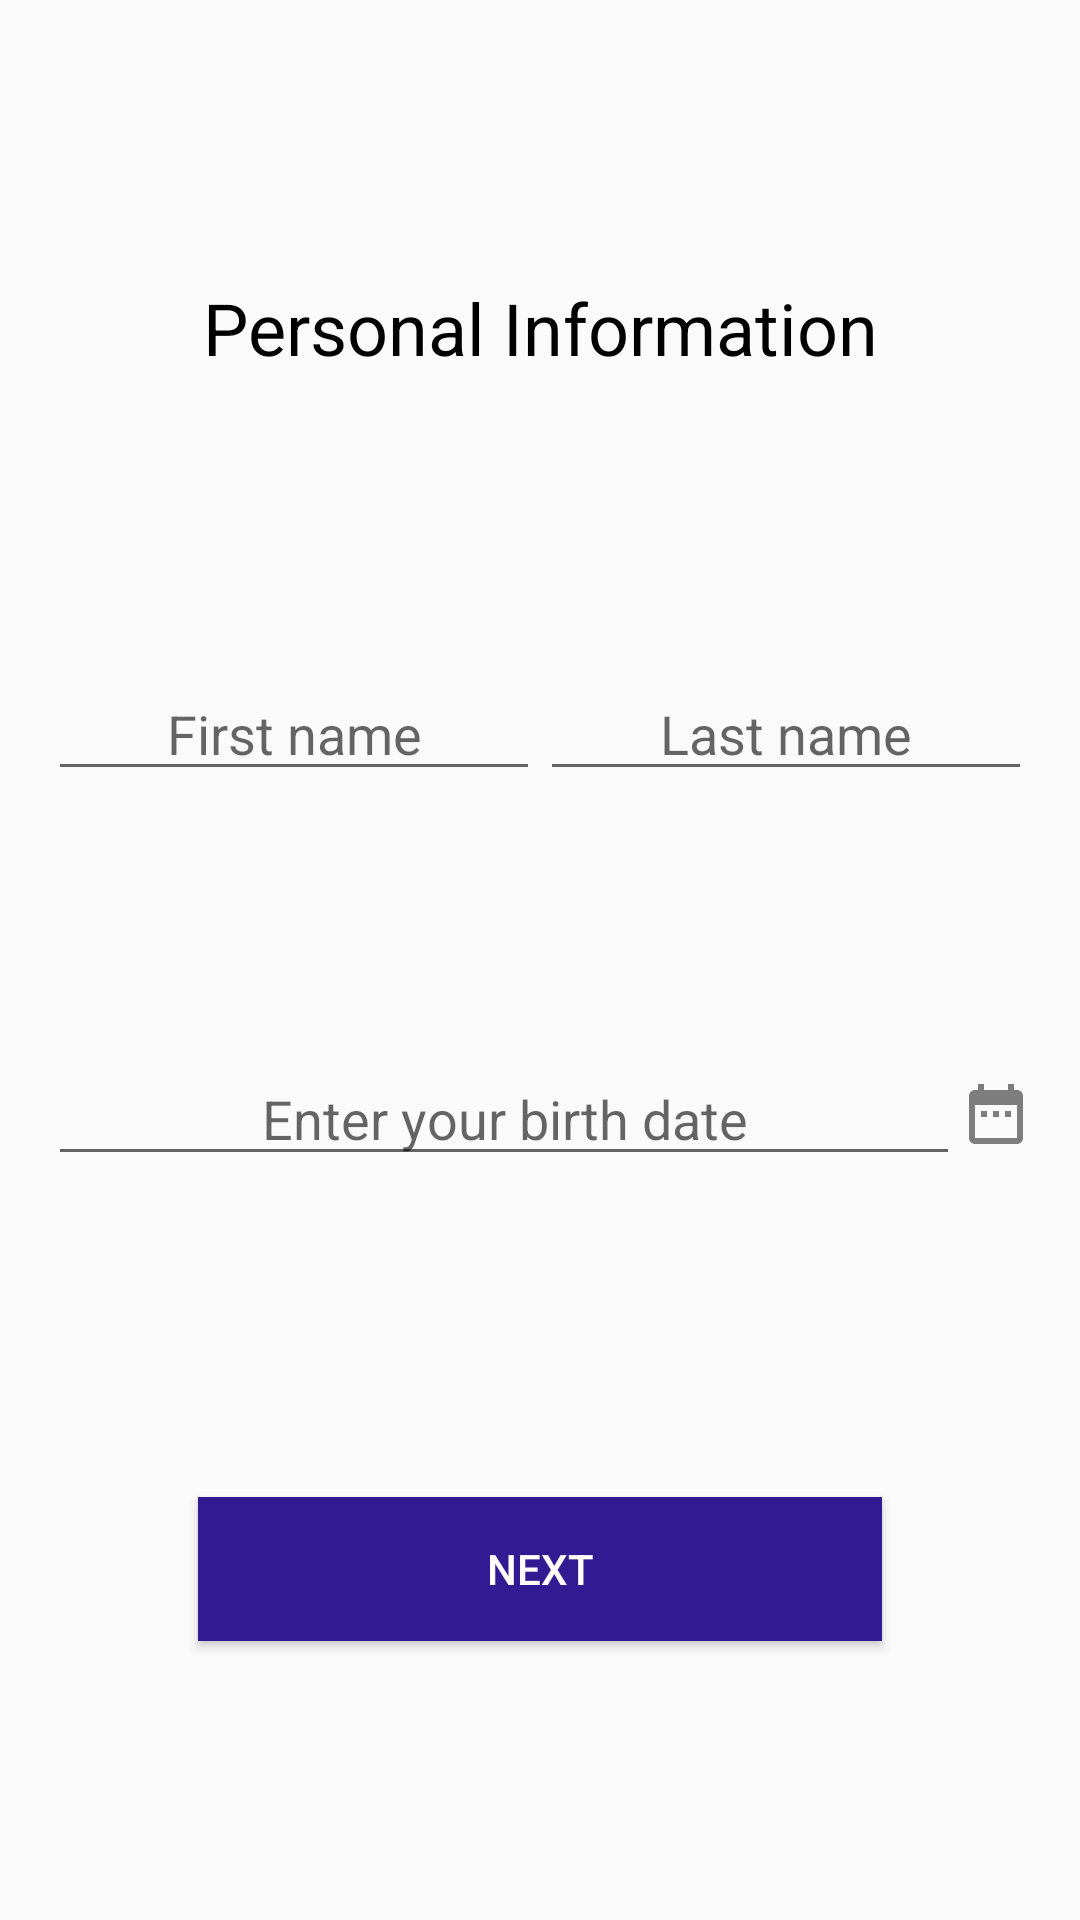

Where to tap for icons on this 1080x1920 app screen, as [x,y]:
date range: [996,1114]
